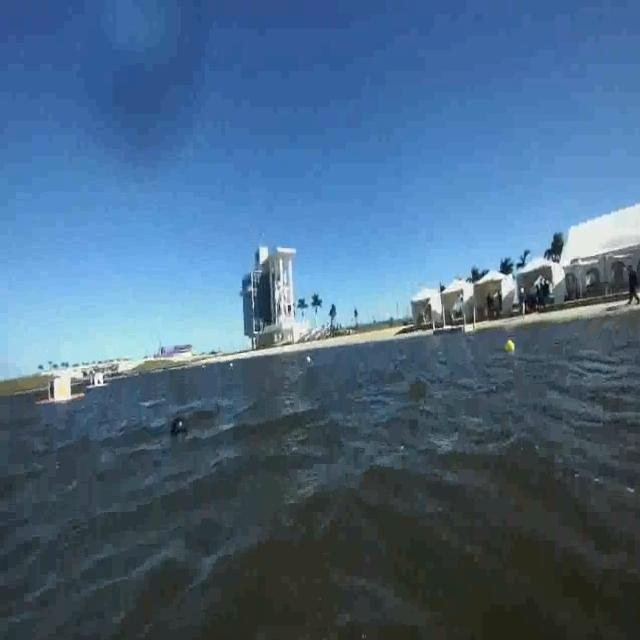black-buoy: (170, 413, 188, 443)
yellow-buoy: (504, 338, 516, 356)
